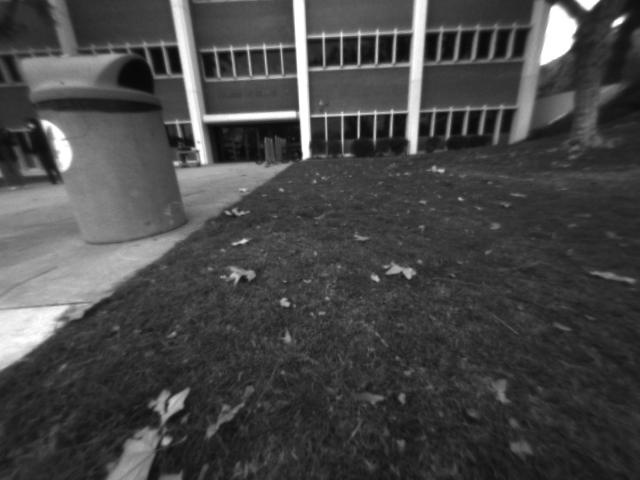trashcan: (9, 44, 205, 243)
